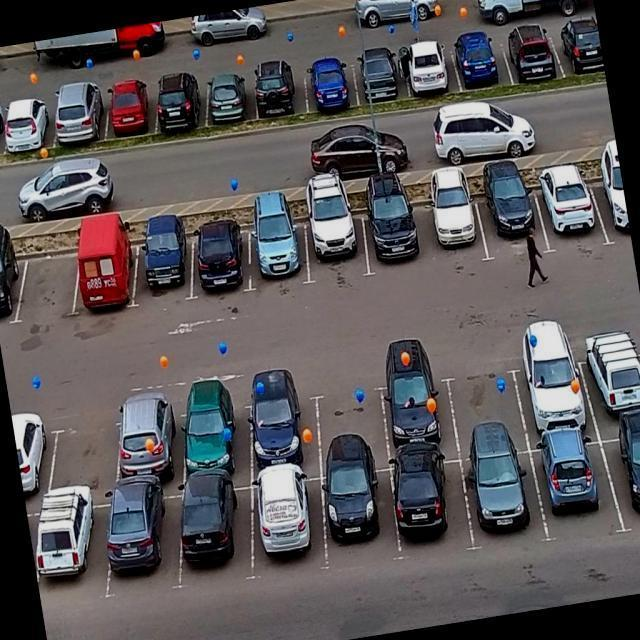space-empty: (42, 401, 137, 502), (305, 362, 393, 465), (448, 357, 527, 454), (10, 246, 86, 324)
space-occupied: (91, 490, 192, 600), (168, 475, 266, 584), (29, 490, 120, 602), (237, 472, 332, 577), (530, 427, 616, 542), (454, 448, 551, 549), (317, 464, 409, 566), (376, 355, 461, 462), (108, 392, 191, 495), (388, 455, 473, 555), (240, 372, 321, 474), (174, 386, 257, 480), (512, 338, 586, 433), (63, 235, 146, 315), (354, 194, 428, 282), (577, 331, 640, 432), (124, 228, 202, 309), (470, 178, 546, 259), (413, 184, 487, 264), (182, 219, 256, 299), (534, 170, 604, 253), (298, 204, 371, 283), (491, 19, 562, 97), (44, 71, 113, 151), (96, 64, 164, 145), (10, 400, 63, 500), (243, 213, 313, 288), (193, 57, 258, 132), (343, 40, 407, 115), (248, 52, 311, 128), (446, 30, 511, 103), (395, 28, 457, 104), (300, 44, 361, 118), (149, 70, 209, 145), (0, 85, 60, 160), (603, 421, 640, 531), (547, 17, 605, 86), (592, 159, 632, 247), (0, 240, 29, 325)
